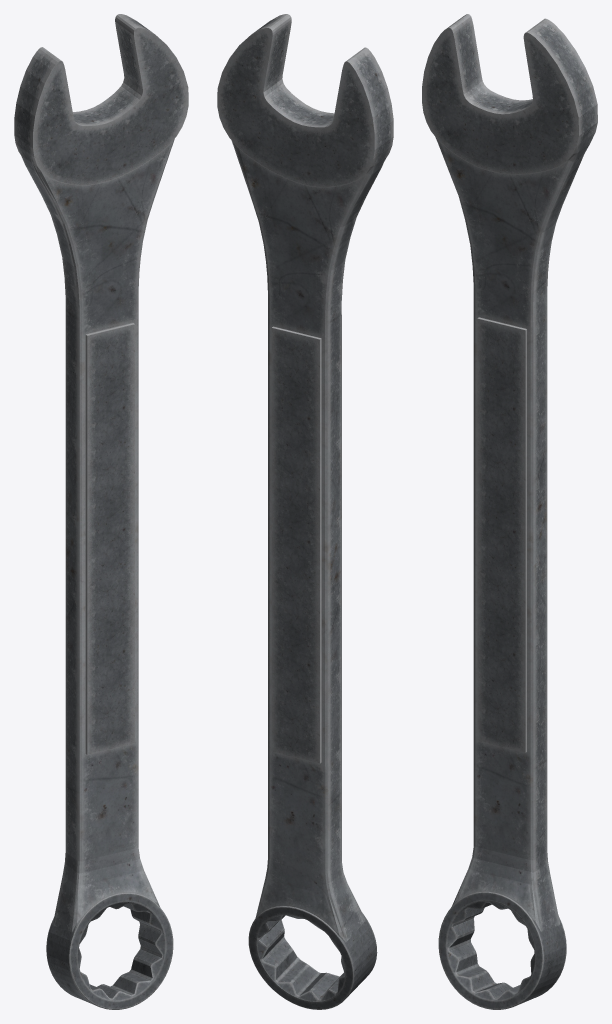
Rendered from combination_wrench.obj.
3 views of the same model, side by side, from view 1: azimuth 30°, elevation 25°; view 2: azimuth 150°, elevation 25°; view 3: azimuth 330°, elevation 25° (orthographic).
Size of the model in its own units: 0.0353 by 0.21 by 0.0134.
1 material, 1 textured.
